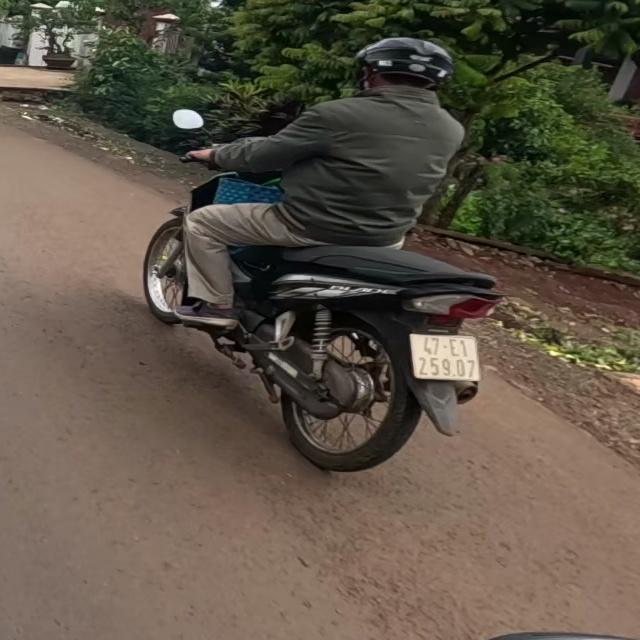license-plate: (405, 330, 483, 385)
